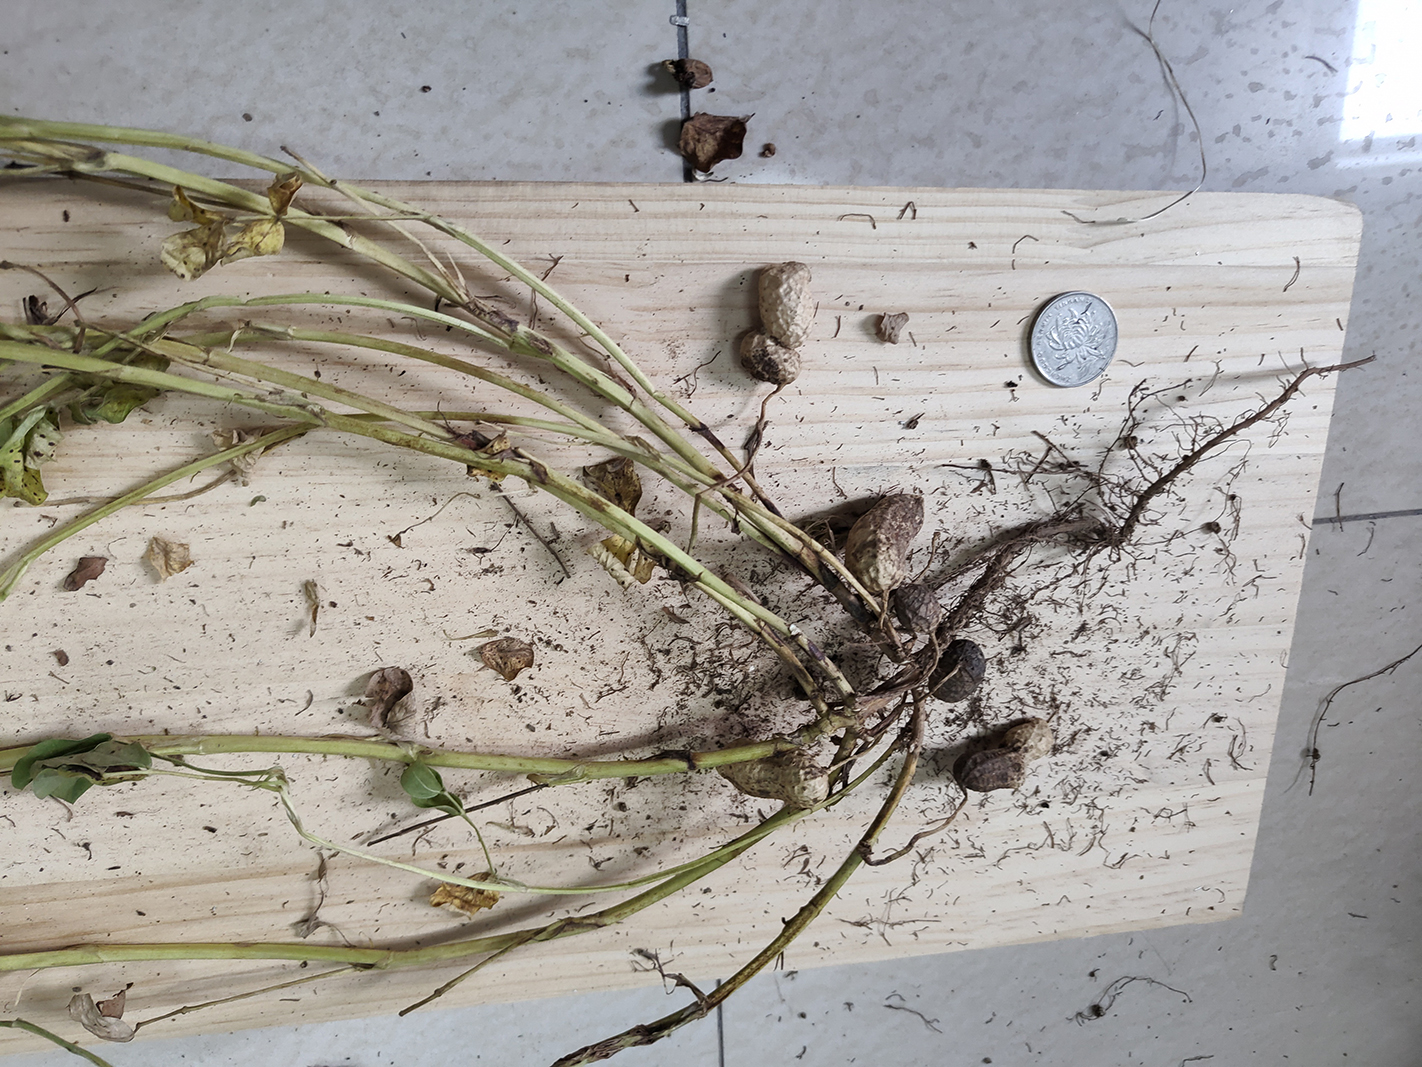h: (736, 260, 812, 386), (724, 758, 831, 807)
l: (846, 493, 926, 593), (954, 720, 1052, 794), (924, 638, 987, 706), (896, 584, 941, 635)
